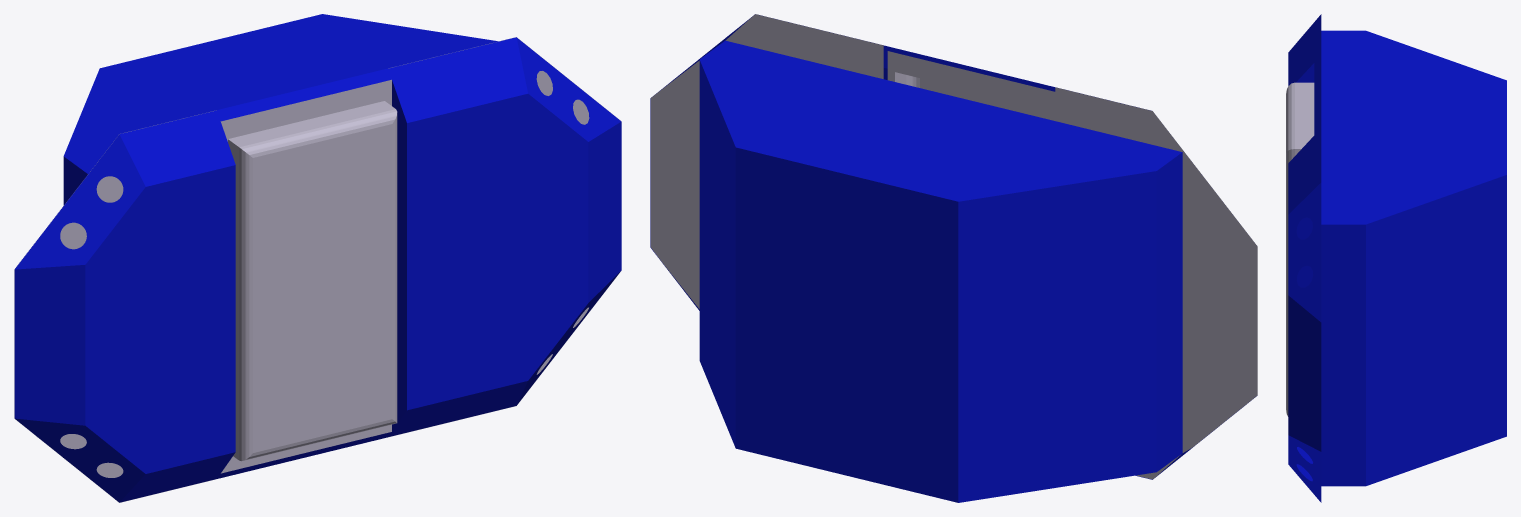
The model's file is seekurjr_chassis.obj.
The picture shows the model from 3 angles, left to right: view 1: azimuth 30°, elevation 25°; view 2: azimuth 150°, elevation 25°; view 3: azimuth 270°, elevation 25°; orthographic projection. The views are drawn at different scales.
Parts seen in each view (by area): view 1: seekurjr_chassis; view 2: seekurjr_chassis; view 3: seekurjr_chassis.
Part boxes in pixels (x1,y1,x2,y2): seekurjr_chassis: (14,14,621,502); seekurjr_chassis: (650,14,1257,502); seekurjr_chassis: (1286,14,1506,502).
Size of the model in its own units: 1.05 by 0.6102 by 0.381.
